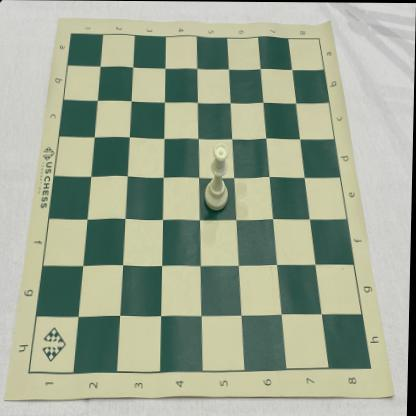white-queen: (205, 141, 231, 212)
